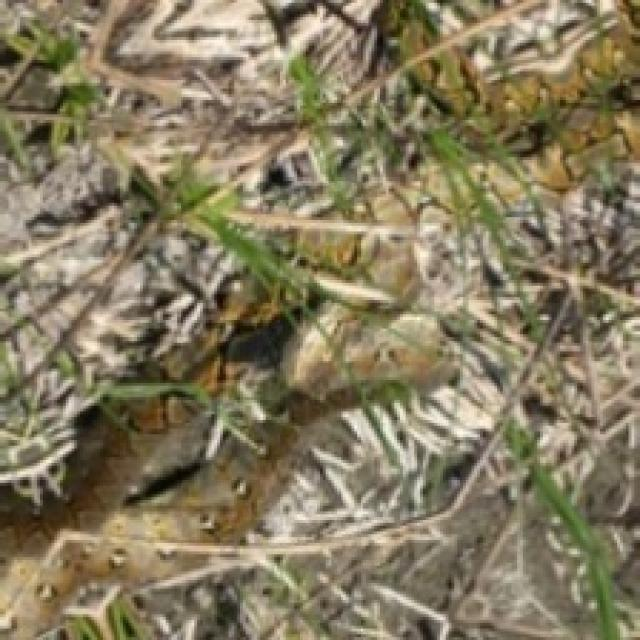reticulated python: (0, 409, 317, 640), (297, 194, 451, 289), (300, 314, 440, 403), (537, 131, 631, 191)
